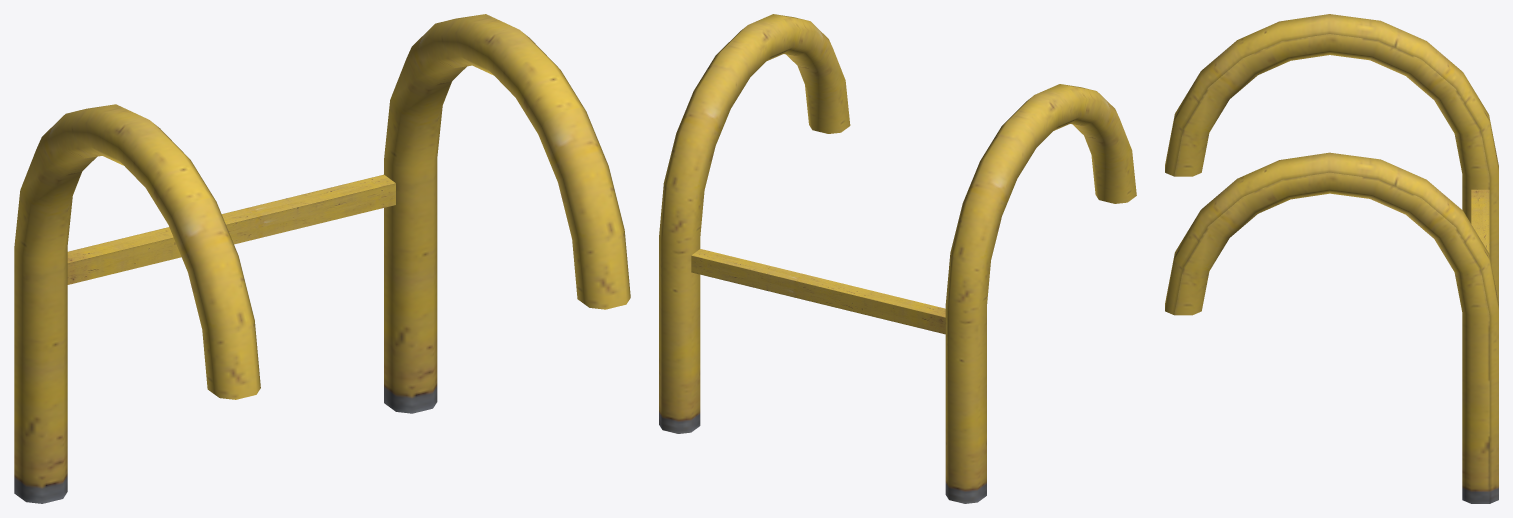
File: Ladder_0,5m_END.fbx
3 views of the same model, side by side, from view 1: azimuth 30°, elevation 25°; view 2: azimuth 150°, elevation 25°; view 3: azimuth 270°, elevation 25° (orthographic). The views are drawn at different scales.
Visible parts, largest first — view 1: Ladder_0,5m_END; view 2: Ladder_0,5m_END; view 3: Ladder_0,5m_END.
Part boxes in pixels (x1,y1,x2,y2): Ladder_0,5m_END: [14, 14, 630, 503]; Ladder_0,5m_END: [659, 14, 1136, 503]; Ladder_0,5m_END: [1165, 14, 1498, 503].
Bounding box in the file's own units: 49.72 × 51.09 × 45.51.
